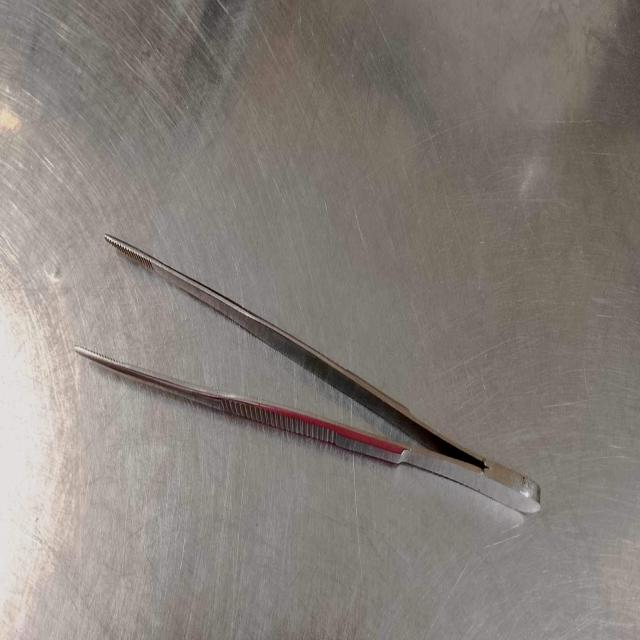General: (73, 231, 544, 517)
Pathological: (2, 1, 639, 638)
